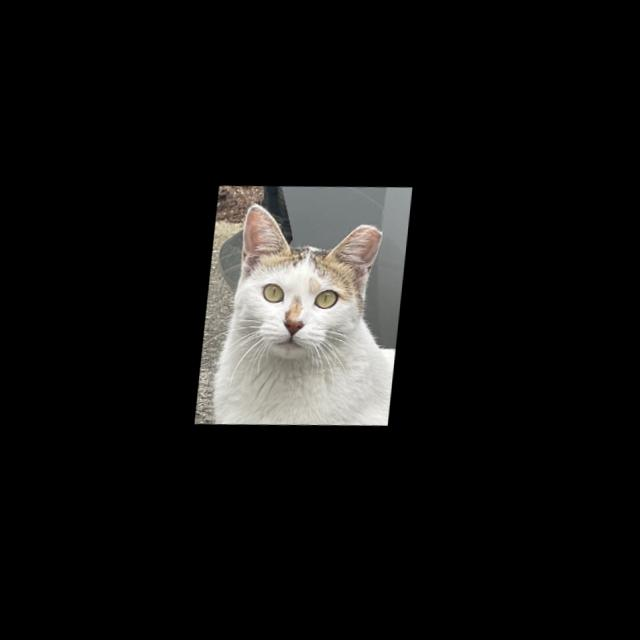animals: (227, 200, 391, 374)
